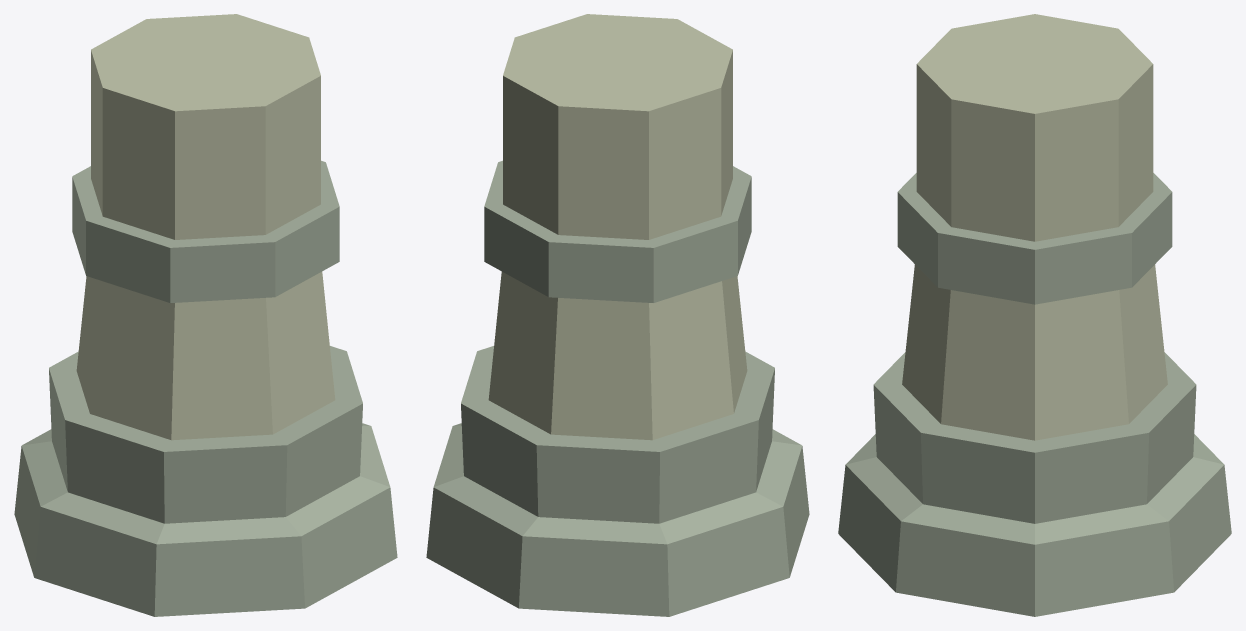
File: Pilier 2.3.fbx
3 views of the same model, side by side, from view 1: azimuth 30°, elevation 25°; view 2: azimuth 150°, elevation 25°; view 3: azimuth 270°, elevation 25° (orthographic).
Parts seen in each view (by area): view 1: Pilier v2.3; view 2: Pilier v2.3; view 3: Pilier v2.3.
Boxes of the visible parts, box(x1,y1,x2,y2) form: Pilier v2.3: box(14, 14, 397, 616); Pilier v2.3: box(426, 14, 809, 616); Pilier v2.3: box(838, 14, 1231, 616).
Bounding box in the file's own units: 898 × 1182 × 898.
